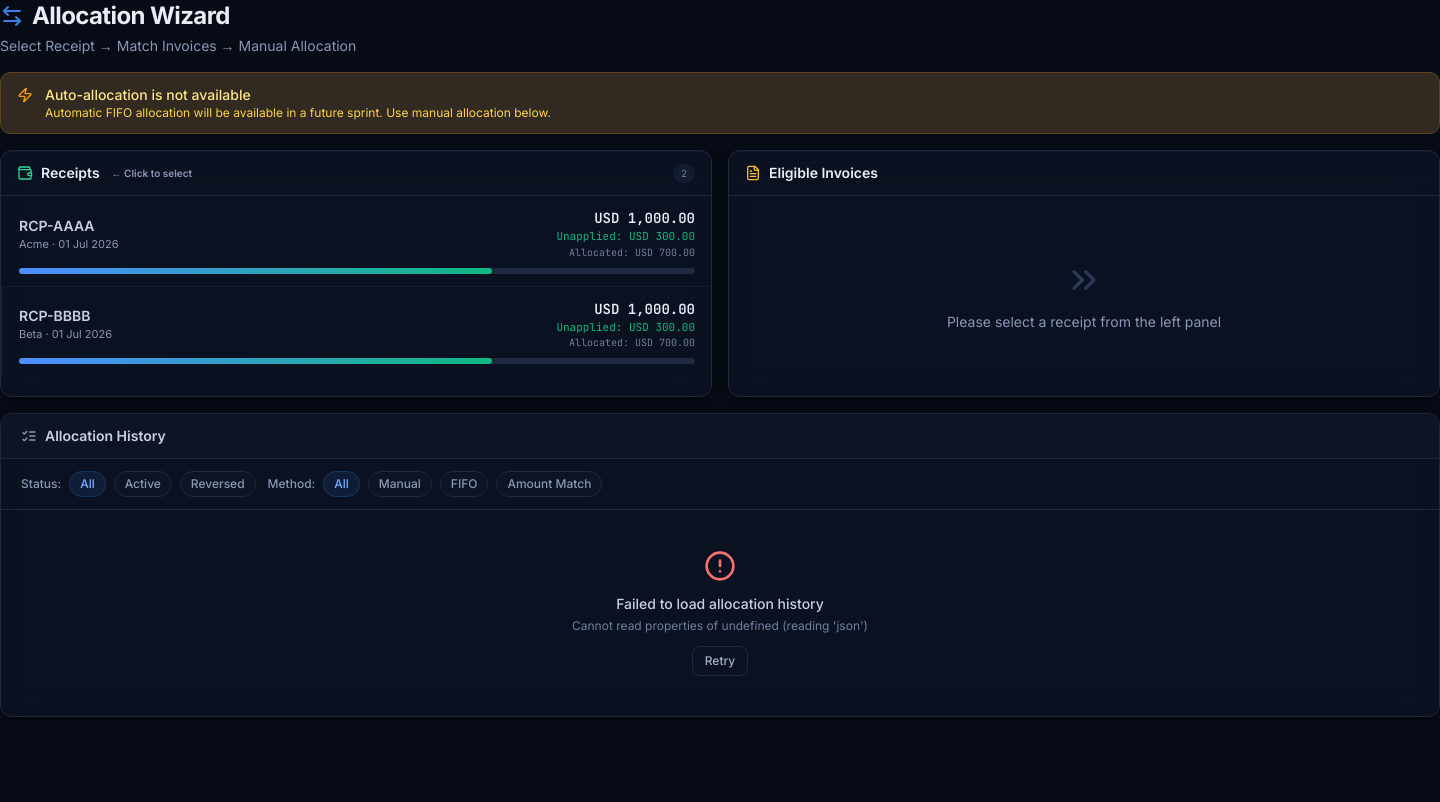
Test: D2 — verified empty clears prior candidates (Phase B) › clears candidates and lines, and shows the empty state rather than an error
The width and height of the screenshot is (1440, 802).
Click the text "RCP-AAAA" at (57, 225), box x1=19 y1=216 x2=94 y2=234
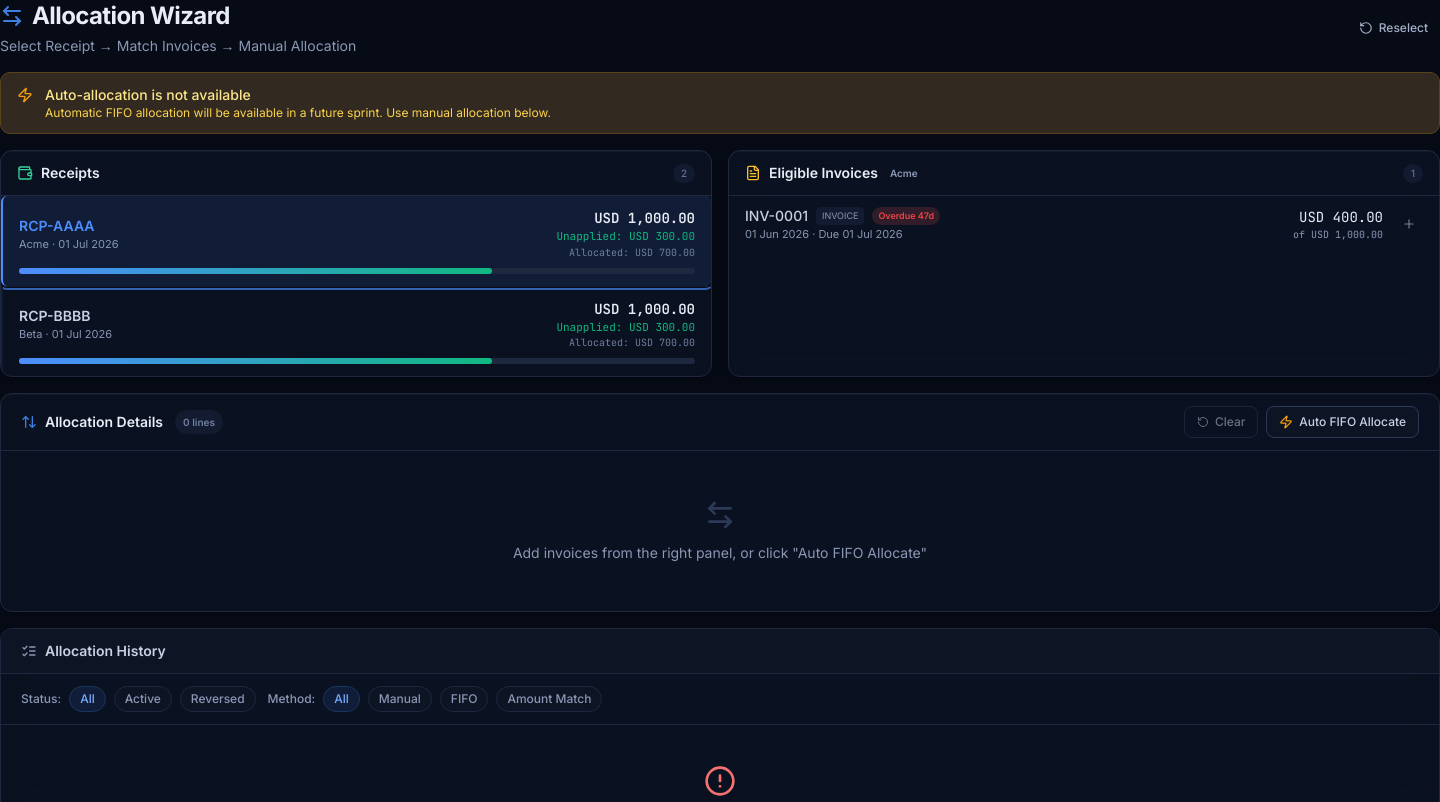
Check: the text "INV-0001" is shown, box x1=745 y1=206 x2=808 y2=226
Click the button titled "Add to allocation" at (1409, 224), box x1=1395 y1=210 x2=1423 y2=238
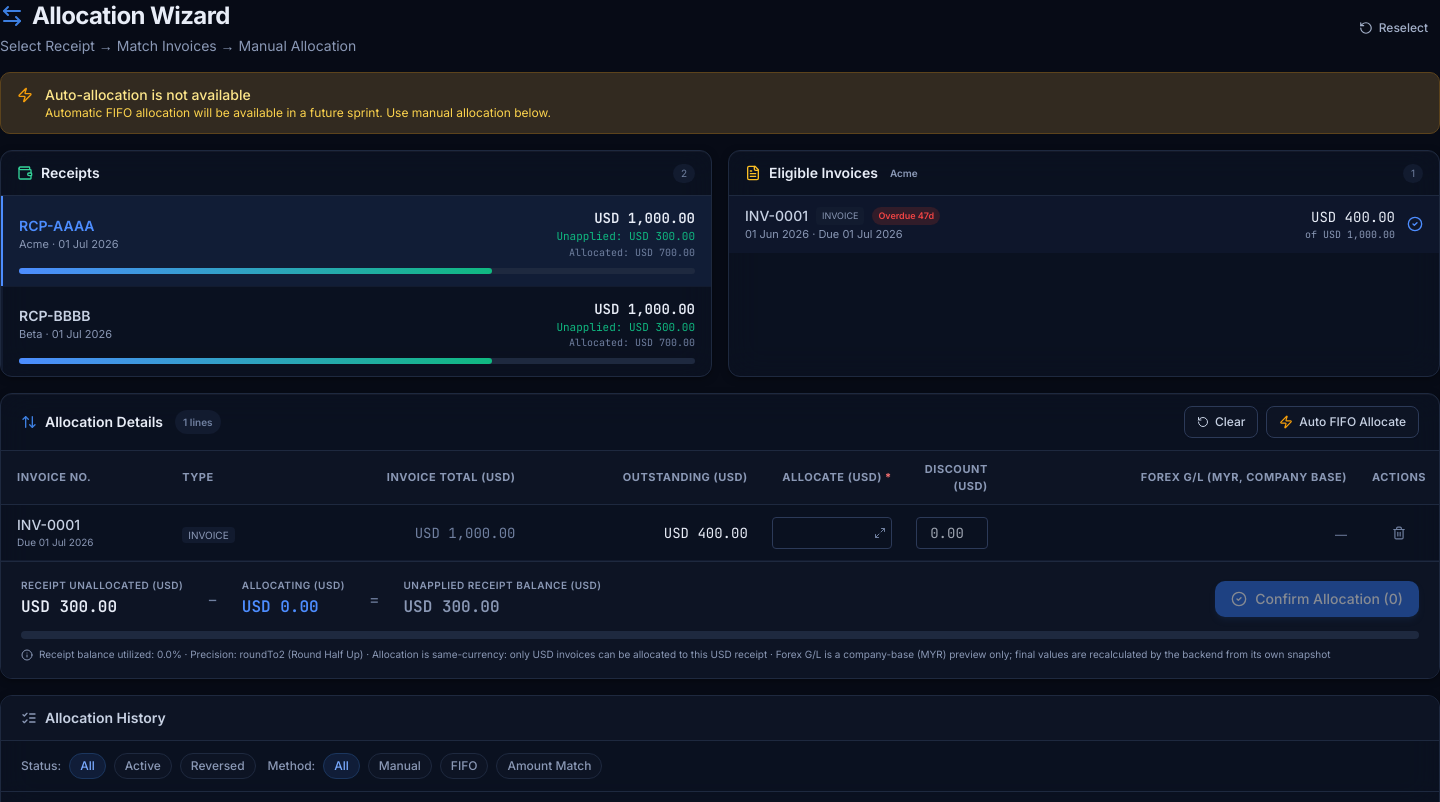
Click the button "Reselect" at (1393, 28), box x1=1347 y1=12 x2=1439 y2=44
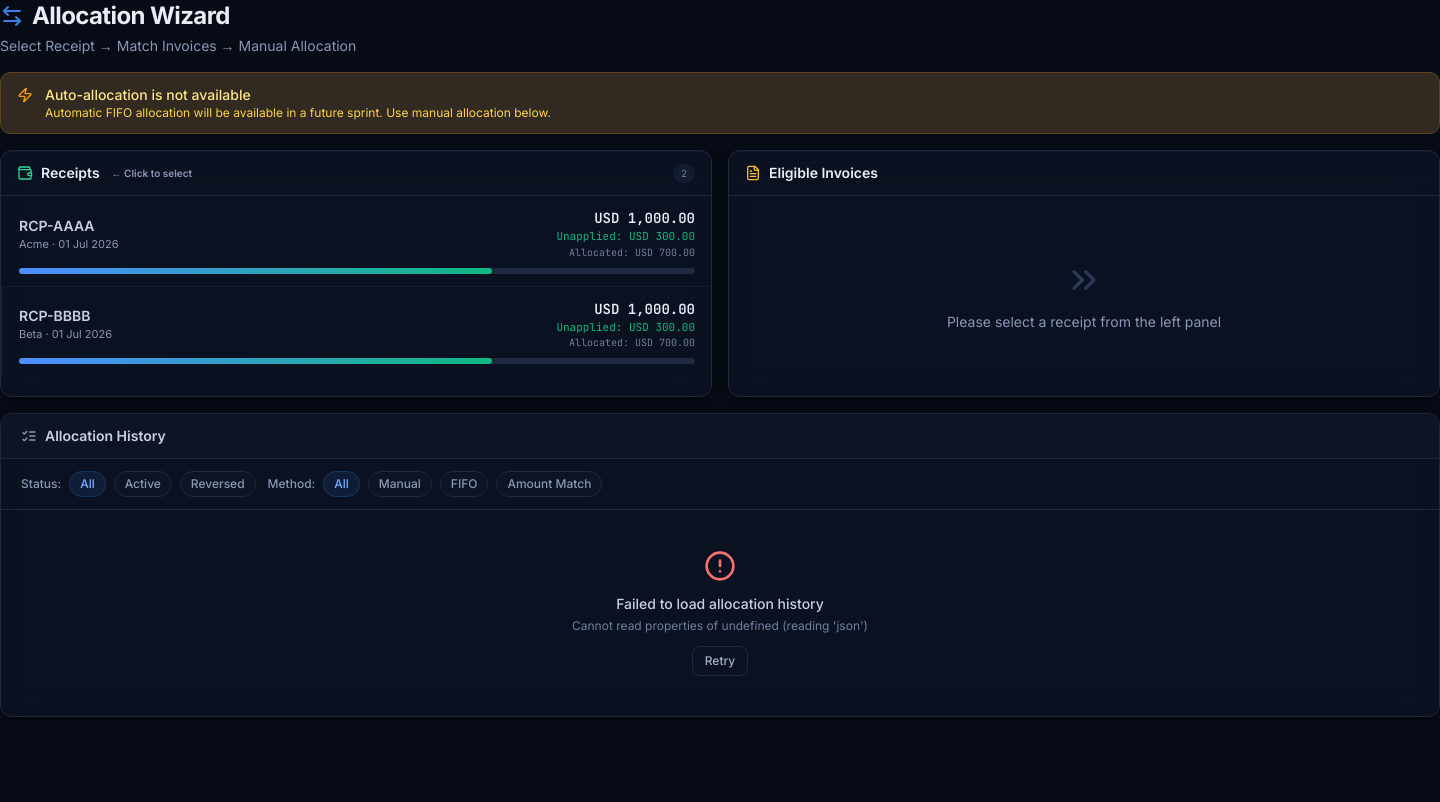
Click the text "RCP-AAAA" at (57, 225), box x1=19 y1=216 x2=94 y2=234
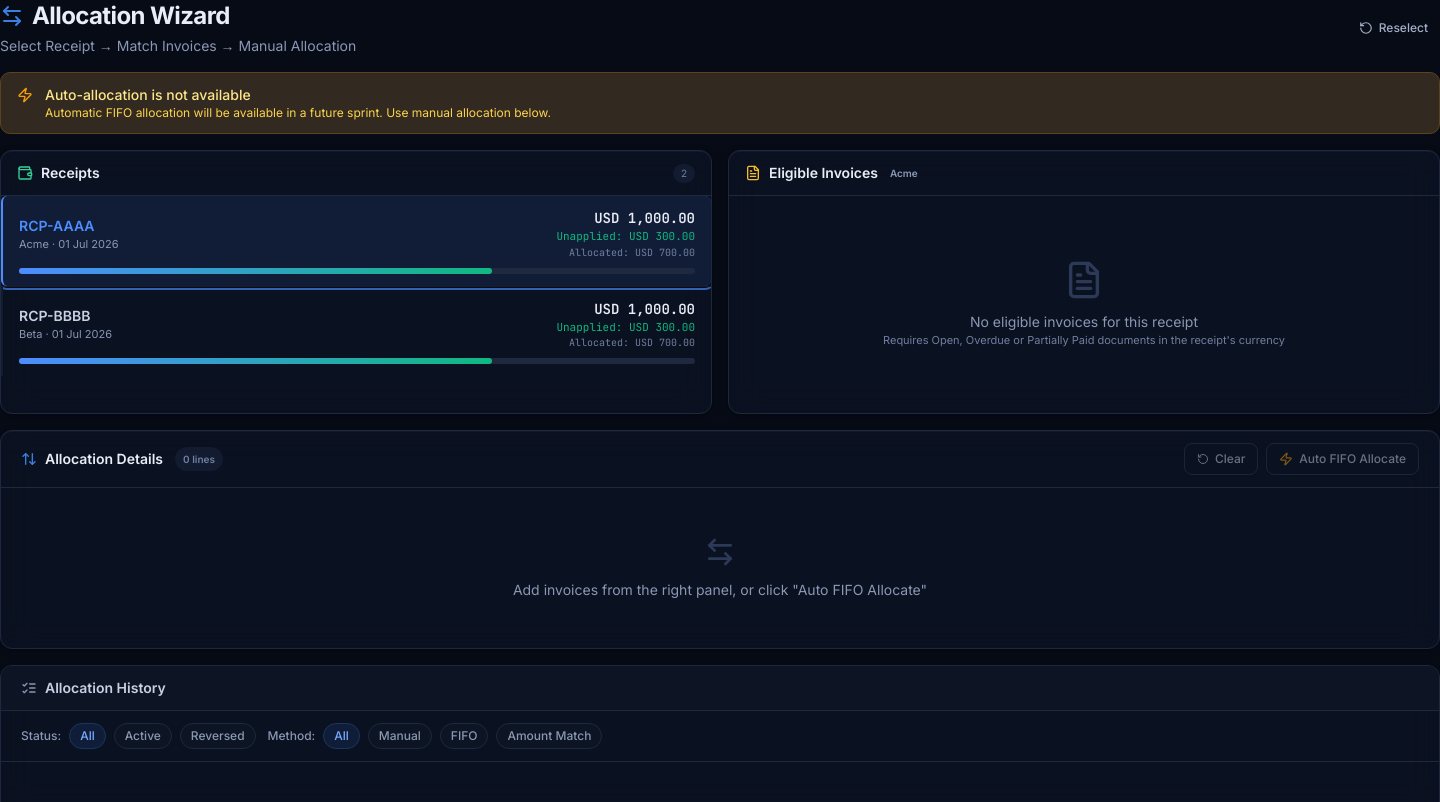
Check: the text "INV-0001" is not shown
Check: the text "No eligible invoices for this receipt" is shown, box x1=970 y1=312 x2=1198 y2=332
